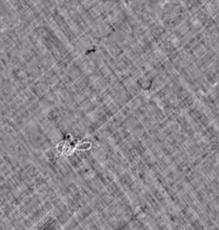snag: (51, 129, 99, 163)
